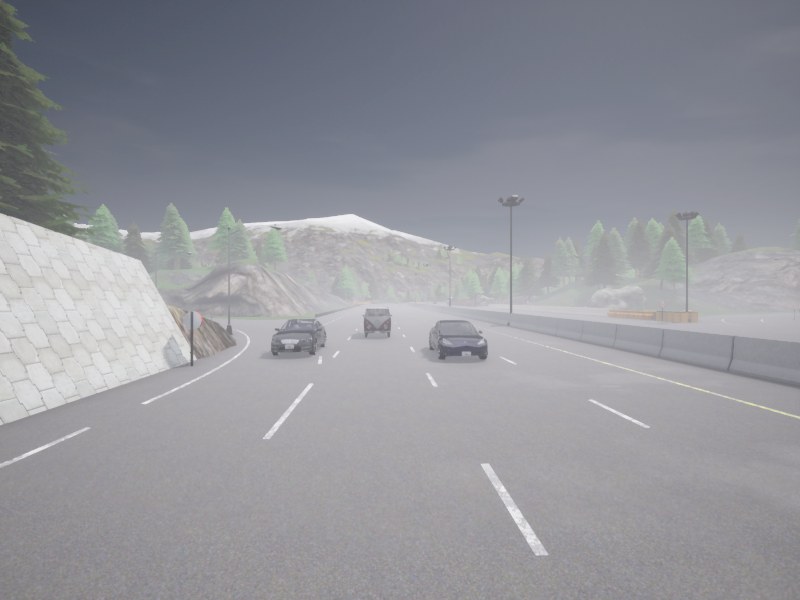vehicle: (429, 320, 487, 359), (271, 318, 326, 355), (362, 306, 391, 337), (447, 297, 456, 301), (432, 302, 436, 303)
